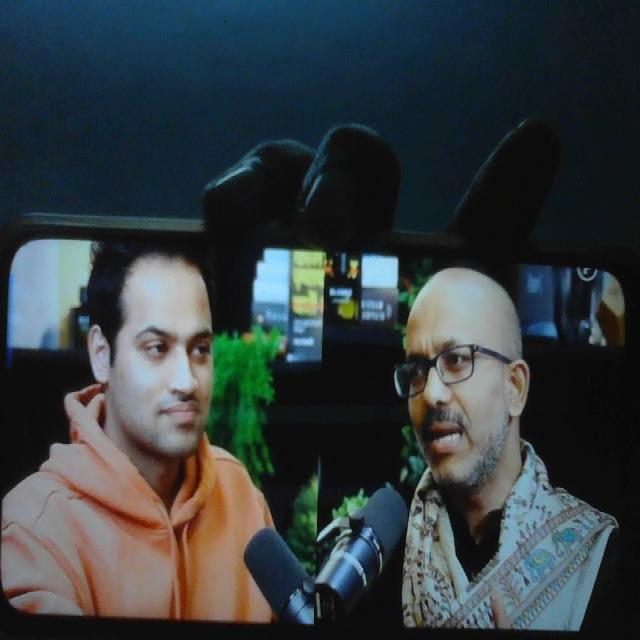fake: (389, 249, 517, 491), (96, 220, 224, 461)
